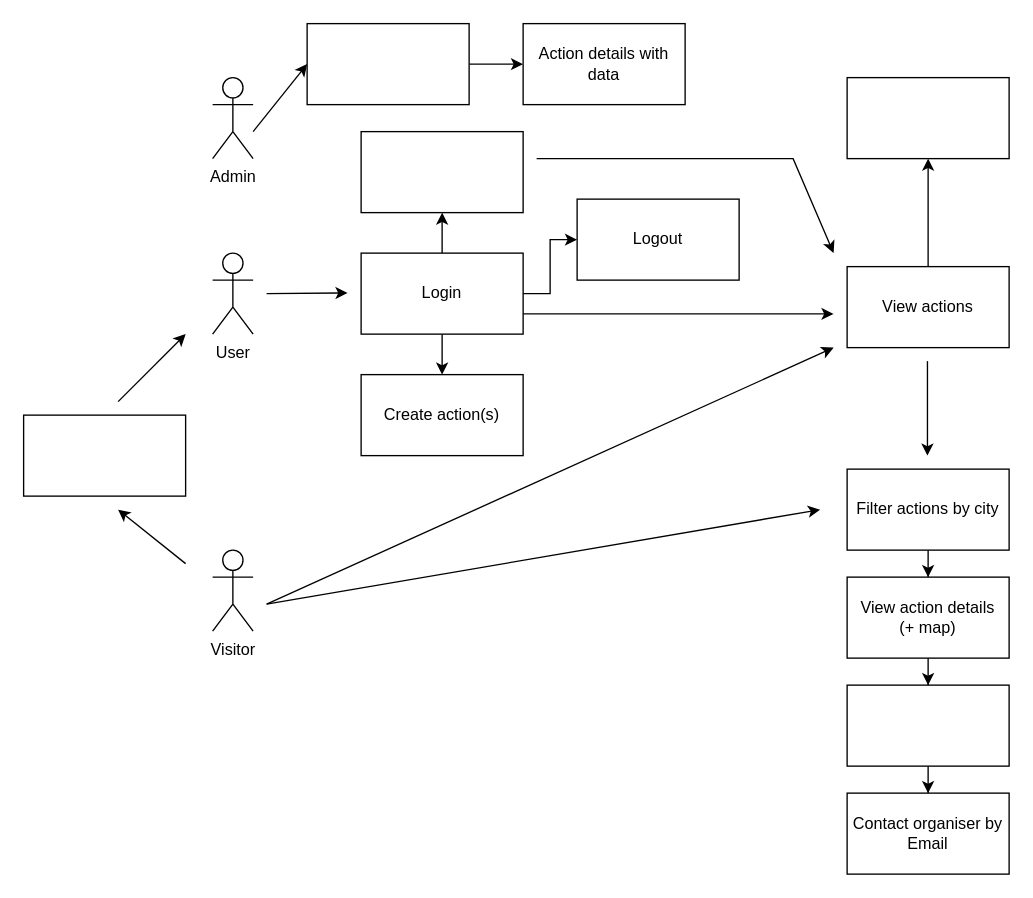
Some shapes in this 1033 by 898 pixel diagram are drawn without their labels. Here are the shapes that lost their labels. From the top down, the centre of each, then its label:
At (387,63): "Get list of actions (present and past)".
At (927,117): "Contact Admin".
At (441,171): "Manage account".
At (104,455): "Create account".
At (927,725): "Join action".
